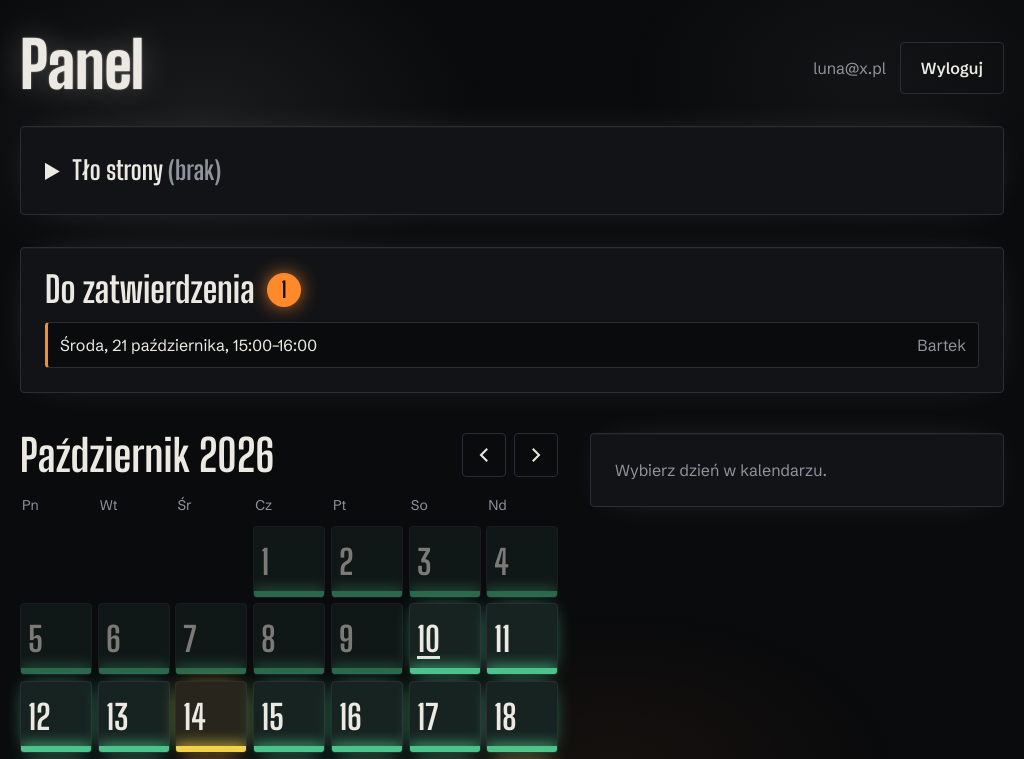
Scenario: panel admina › lista „Do zatwierdzenia” pokazuje oczekujące i przenosi do dnia
Expected: the text "Ania" is not shown
Expected: the text "1" next to "Do zatwierdzenia" is shown, [281,276,286,303]
Click the text "Bartek". click: (942,345)
box: [917,333,966,357]
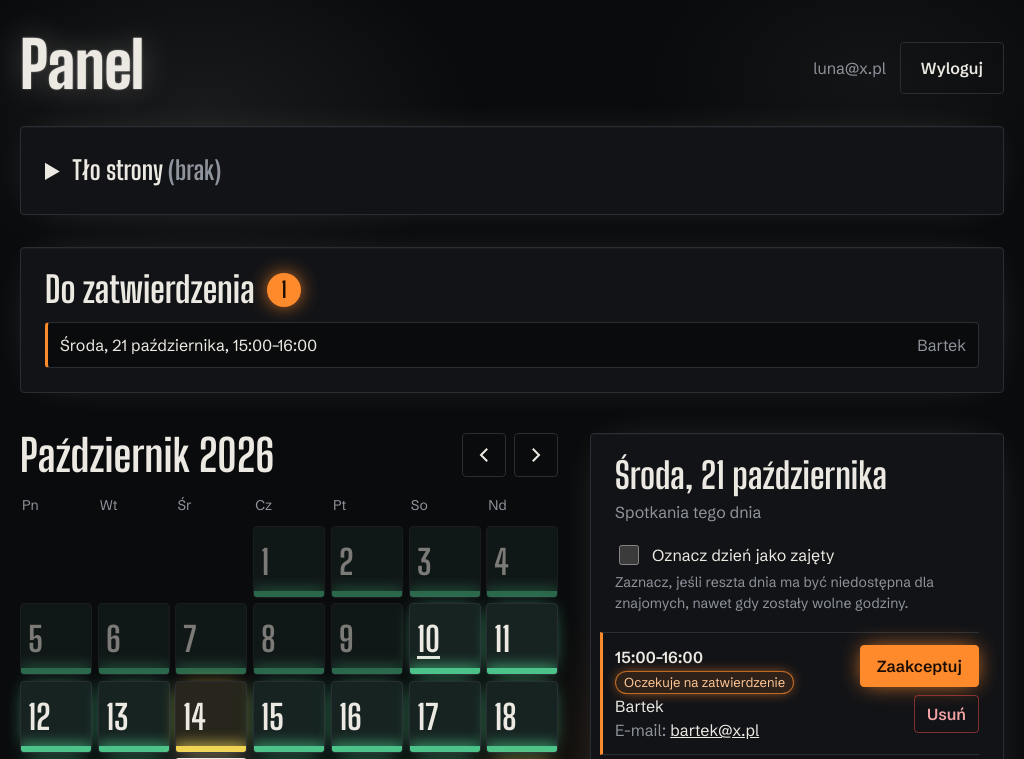
Expected: the button "Zaakceptuj" is shown, [860,645,979,687]
